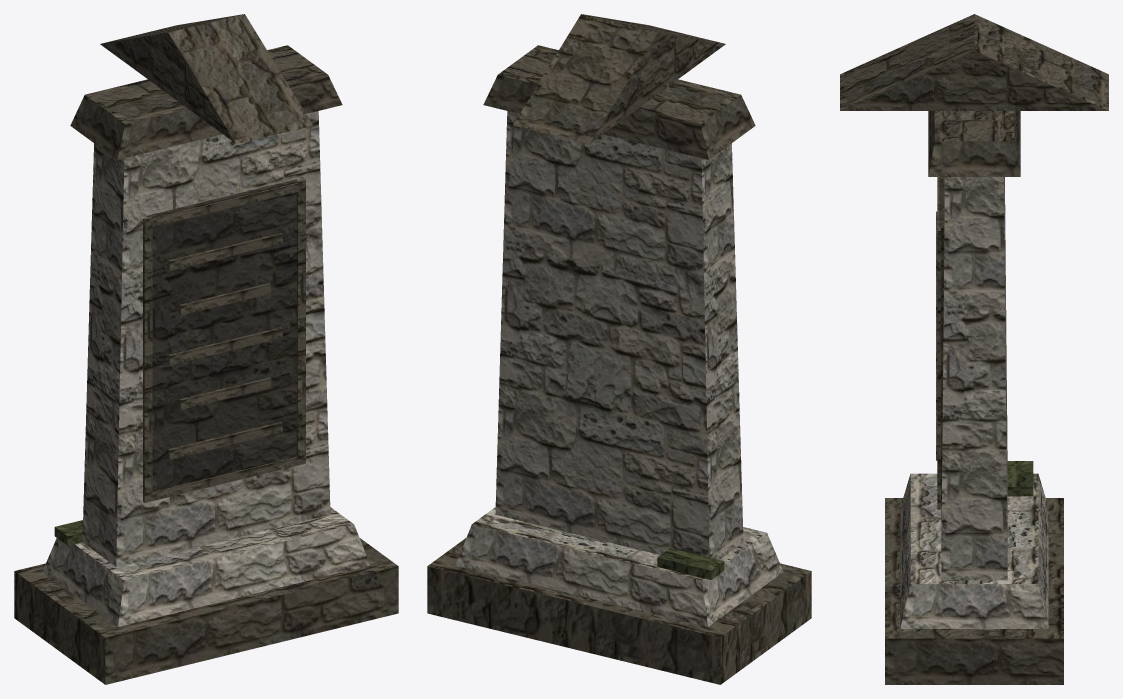
Rendered from stele_01.glb.
The picture shows the model from 3 angles, left to right: view 1: azimuth 30°, elevation 25°; view 2: azimuth 150°, elevation 25°; view 3: azimuth 270°, elevation 25°; orthographic projection.
Parts seen in each view (by area): view 1: stele_01; view 2: stele_01; view 3: stele_01.
Boxes of the visible parts, x1=… form: stele_01: x1=14, y1=14, x2=398, y2=684; stele_01: x1=427, y1=14, x2=811, y2=684; stele_01: x1=840, y1=14, x2=1108, y2=684.
Bounding box in the file's own units: 1.3 × 2.51 × 1.05.
4 materials, 4 textured.
